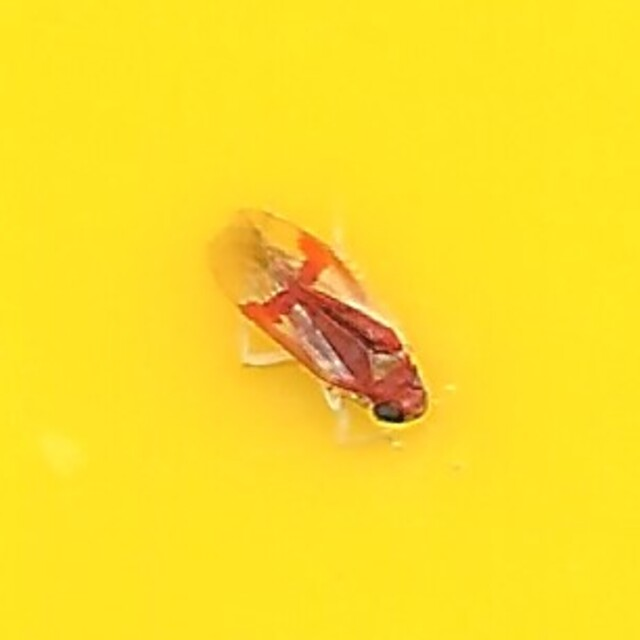Hemiptera: (209, 208, 431, 432)
